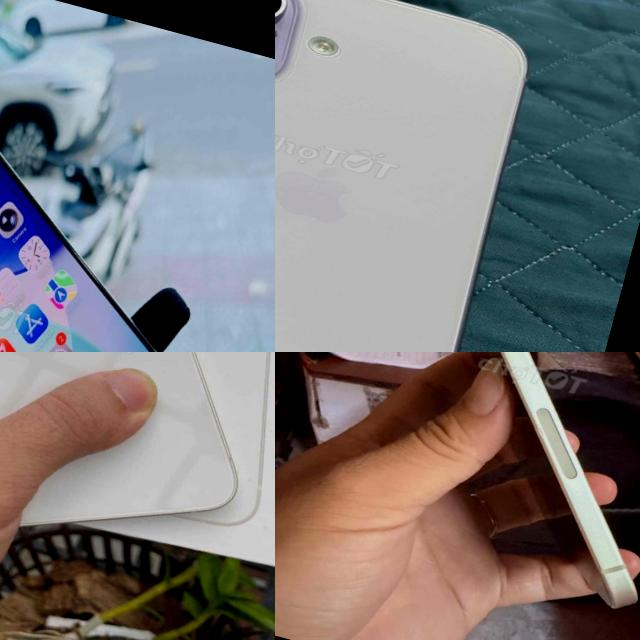physical_damage: (531, 421, 548, 438)
